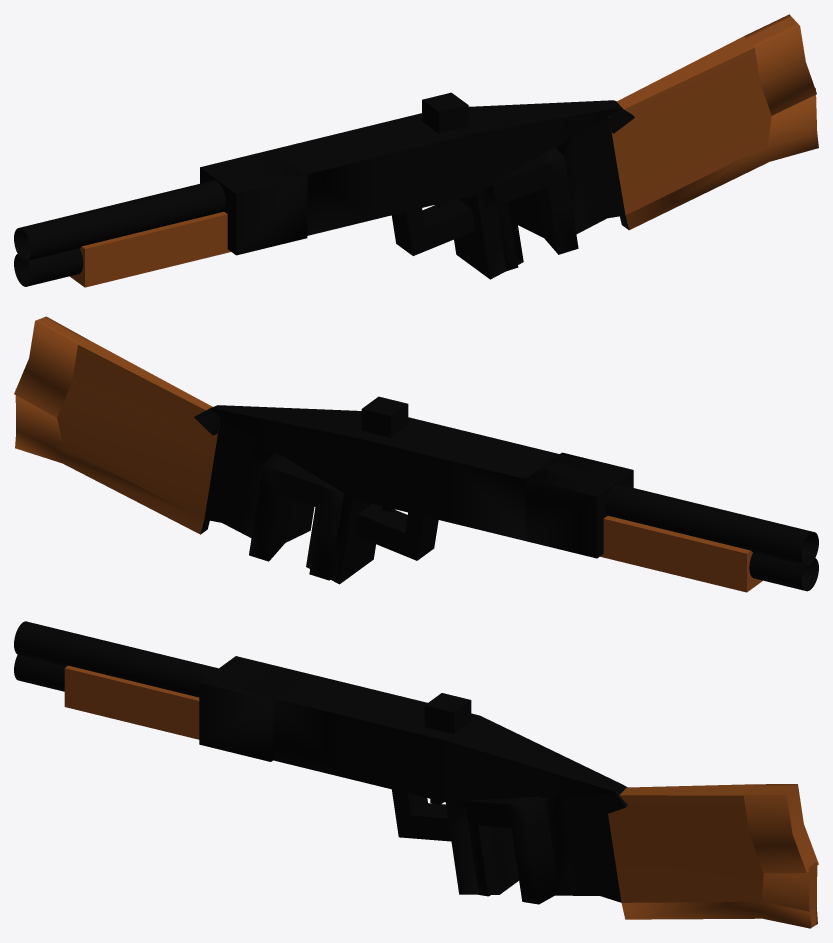
File: Shotgun.fbx
3 views of the same model, one above another, from view 1: azimuth 30°, elevation 25°; view 2: azimuth 150°, elevation 25°; view 3: azimuth 330°, elevation 25° (orthographic).
Parts seen in each view (by area): view 1: Cube, Cylinder, Cube.001, Cylinder.001; view 2: Cube, Cylinder, Cube.001, Cylinder.001; view 3: Cube, Cylinder, Cube.001, Cylinder.001.
Boxes of the visible parts, x1,y1,x2,y2 form: Cube: (200, 14, 818, 279); Cylinder: (14, 180, 225, 261); Cube.001: (70, 212, 230, 287); Cylinder.001: (14, 248, 83, 286); Cube: (14, 316, 633, 584); Cylinder: (606, 484, 818, 565); Cube.001: (600, 516, 762, 592); Cylinder.001: (749, 552, 818, 591); Cube: (199, 656, 818, 928); Cylinder: (14, 621, 218, 697); Cube.001: (64, 665, 199, 739); Cylinder.001: (14, 655, 65, 691).
Size of the model in its own units: 834 by 175 by 83.36.
